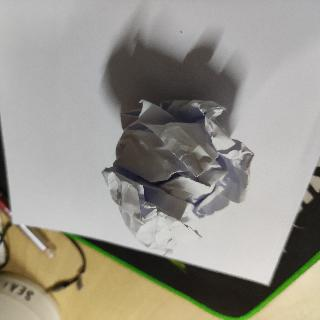8/可回收垃圾/纸: (100, 97, 255, 248)
